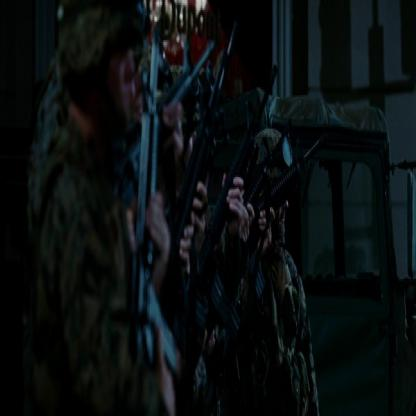Gun: (126, 10, 325, 404)
